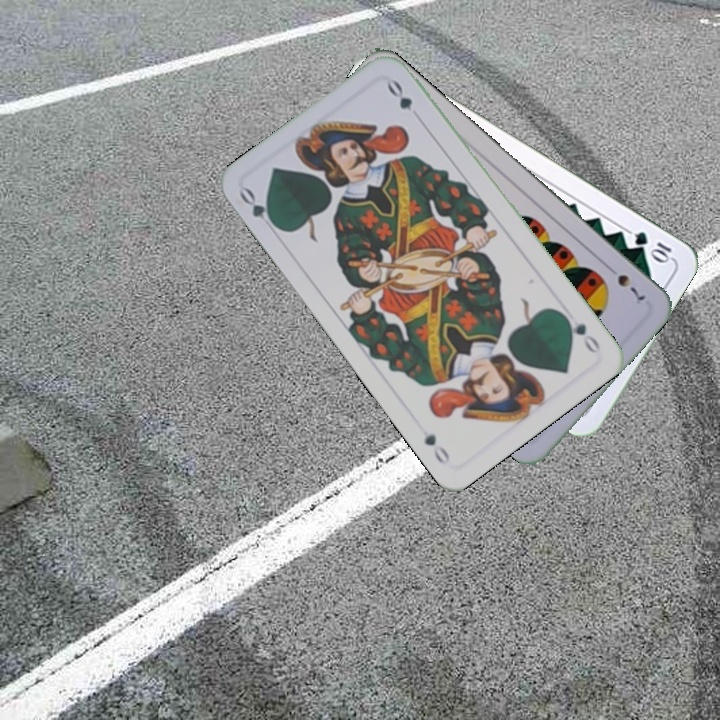G10: (629, 227, 675, 265)
GO: (235, 184, 283, 236), (558, 309, 603, 356)
S7: (602, 261, 648, 304)
